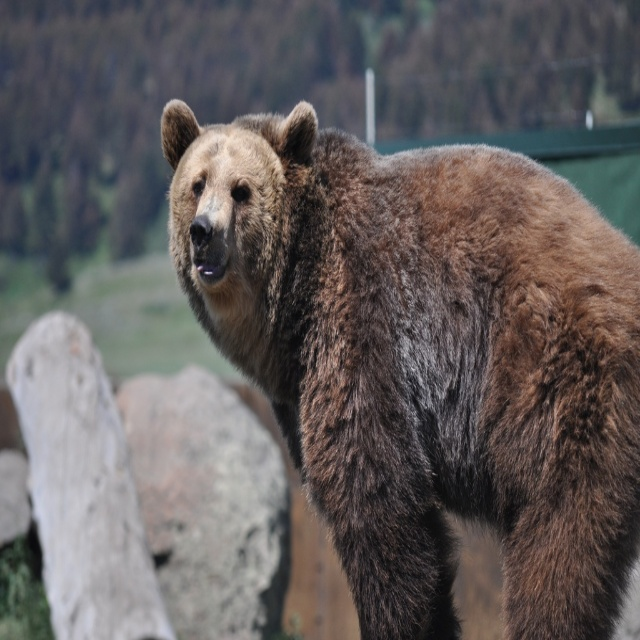Brown bear: (159, 97, 640, 639)
